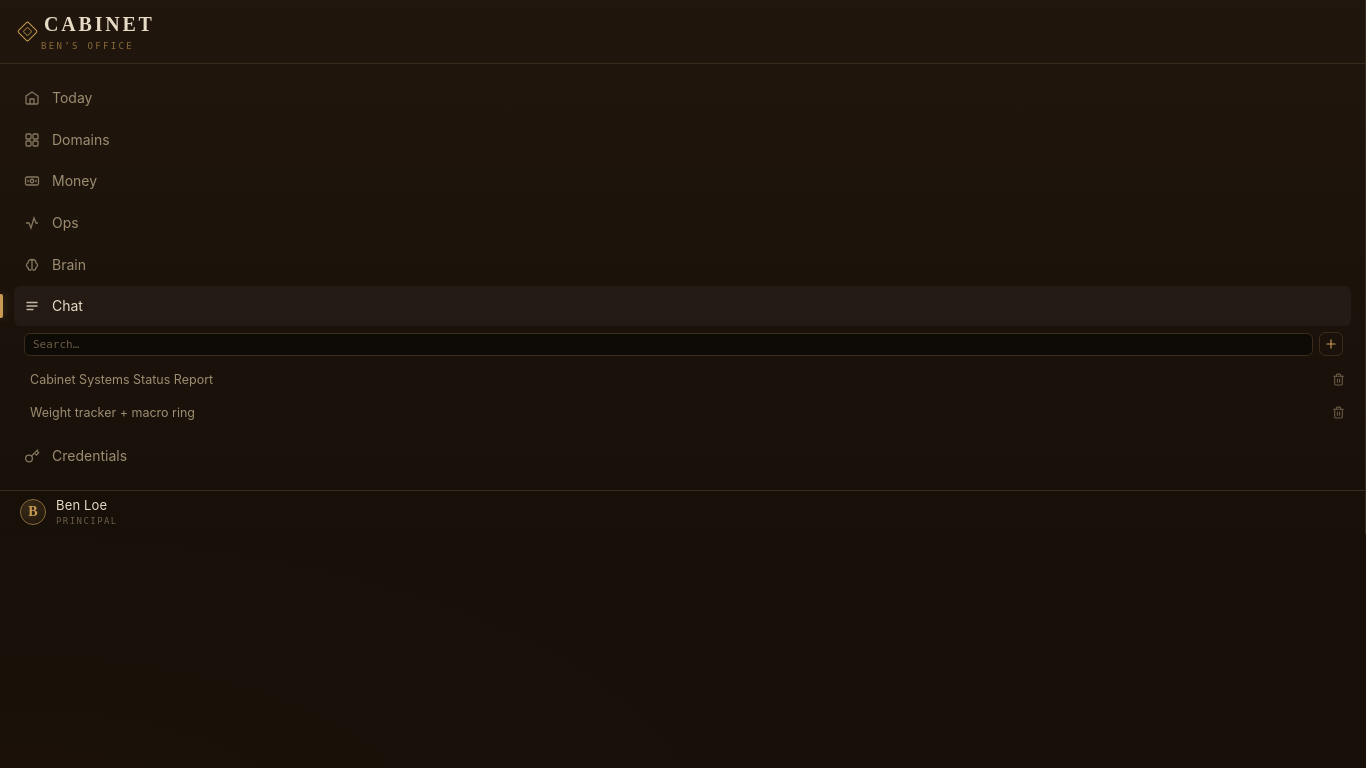
Scenario: rail Chat accordion › clicking delete opens a confirmation dialog instead of deleting outright
Click the button named "Delete “Cabinet Systems Status Report”" at (1338, 380), box [1327,369,1349,391]
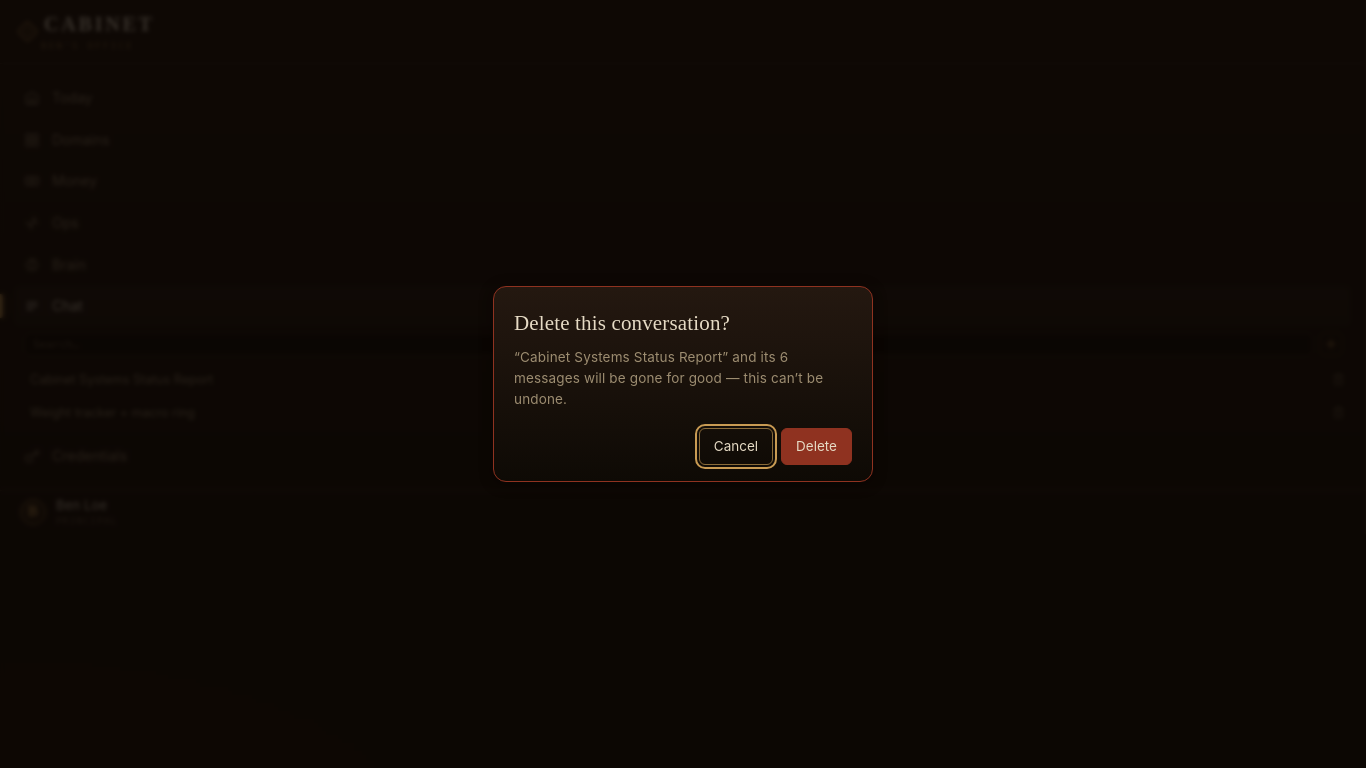
expect the dialog is shown: met
expect the text "Delete this conversation?" is shown: met, box [514,311,730,335]
